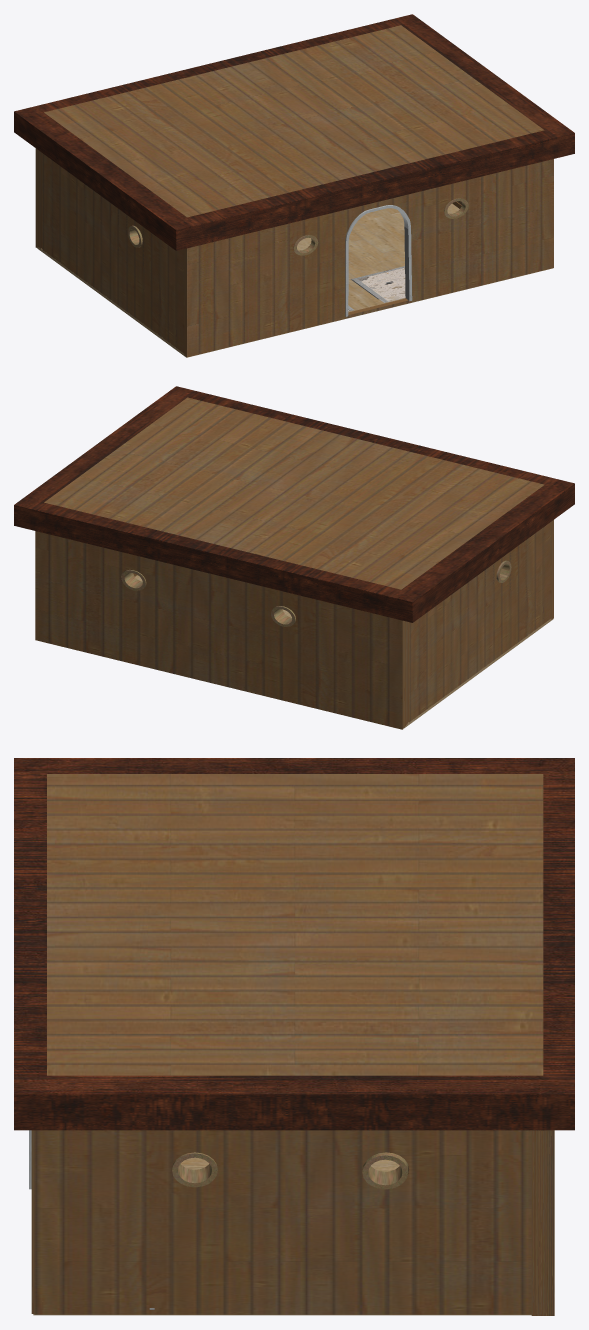
File: lounge.obj
3 renders of one model, top to bottom at view 1: azimuth 30°, elevation 25°; view 2: azimuth 150°, elevation 25°; view 3: azimuth 270°, elevation 25°, orthographic. The views are drawn at different scales.
Visible parts, largest first — view 1: polySurface1176, polySurface304polySurface1190, polySurface304polySurface1075, polySurface304polySurface1086, polySurface304polySurface1186, polySurface304polySurface1189, polySurface1262polySurface1110; view 2: polySurface1176, polySurface1262polySurface1110, polySurface304polySurface1075, polySurface304polySurface1086; view 3: polySurface1176, polySurface304polySurface1207, polySurface1262polySurface1110, polySurface304polySurface1086, polySurface1079polySurface304, polySurface304polySurface1083, polySurface304polySurface1190.
Boxes of the visible parts, bbox=[...] form: polySurface1176: bbox=[14, 14, 574, 250]; polySurface304polySurface1190: bbox=[184, 159, 553, 357]; polySurface304polySurface1075: bbox=[42, 153, 184, 353]; polySurface304polySurface1086: bbox=[37, 203, 553, 357]; polySurface304polySurface1186: bbox=[345, 205, 412, 316]; polySurface304polySurface1189: bbox=[358, 267, 405, 302]; polySurface1262polySurface1110: bbox=[35, 148, 42, 248]; polySurface1176: bbox=[14, 386, 574, 622]; polySurface1262polySurface1110: bbox=[35, 531, 409, 729]; polySurface304polySurface1075: bbox=[409, 522, 551, 722]; polySurface304polySurface1086: bbox=[135, 575, 553, 728]; polySurface1176: bbox=[14, 758, 574, 1130]; polySurface304polySurface1207: bbox=[34, 1130, 531, 1314]; polySurface1262polySurface1110: bbox=[531, 1130, 554, 1315]; polySurface304polySurface1086: bbox=[33, 1157, 531, 1315]; polySurface1079polySurface304: bbox=[362, 1152, 408, 1189]; polySurface304polySurface1083: bbox=[172, 1152, 217, 1187]; polySurface304polySurface1190: bbox=[31, 1130, 34, 1313].
Size of the model in its own units: 8.48 by 2.79 by 5.98.
Materials: 17 (16 with a texture image).
